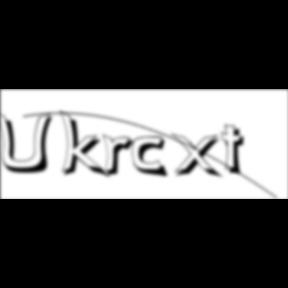U: (0, 110, 58, 176)
c: (133, 136, 173, 180)
k: (60, 108, 112, 181)
r: (102, 134, 140, 180)
t: (220, 124, 252, 179)
x: (172, 132, 226, 181)
